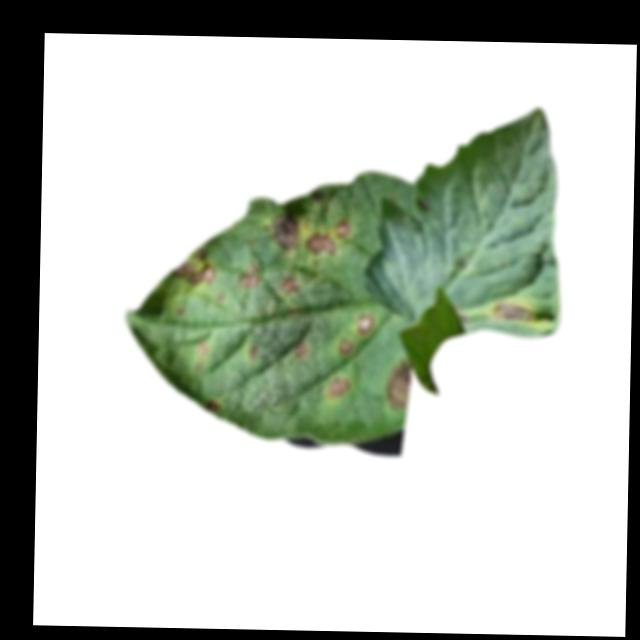Early_blight: (169, 244, 218, 288), (492, 293, 539, 330), (266, 212, 302, 255), (384, 358, 413, 411), (305, 228, 337, 255), (326, 376, 354, 400), (239, 260, 261, 290), (354, 309, 376, 335), (278, 270, 299, 295), (203, 395, 224, 414), (335, 219, 353, 239), (293, 341, 308, 359), (336, 338, 353, 353), (195, 340, 209, 358), (247, 343, 260, 362)
